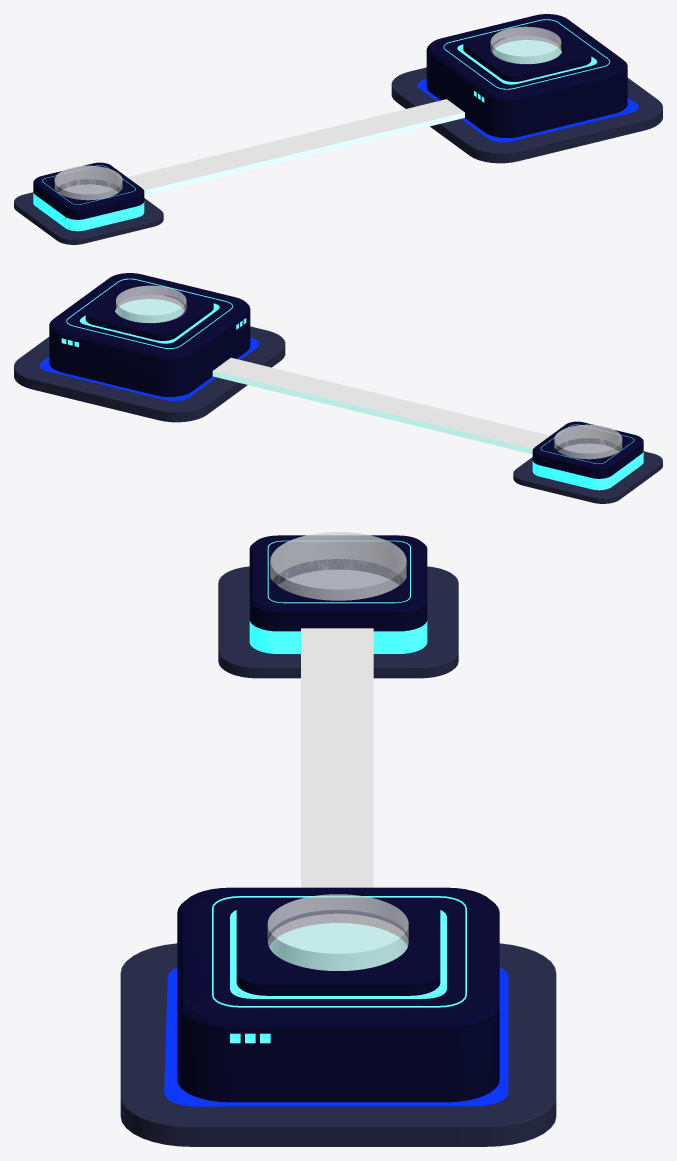
3 views of the same model, one above another, from view 1: azimuth 30°, elevation 25°; view 2: azimuth 150°, elevation 25°; view 3: azimuth 270°, elevation 25° (orthographic). The views are drawn at different scales.
Visible parts, largest first — view 1: Lit_up_face, Cube.001, Cube, Cube.010, Cube.002, Cube.008, Cylinder.005, Cylinder.003, Cube.012, Cube.007, Cube.009, Cube.011 (+1 smaller); view 2: Lit_up_face, Cube.001, Cube, Cube.010, Cube.002, Cube.008, Cylinder.005, Cylinder.003, Cube.012, Cube.007, Cube.009, Cube.011 (+1 smaller); view 3: Lit_up_face, Cube.001, Cube, Cube.010, Cube.002, Cube.008, Cylinder.005, Cylinder.003, Cube.007, Cube.011, Cube.009, Plane.
Boxes of the visible parts, left/top/right/bottom form: Lit_up_face: left=426, top=14, right=627, bottom=137; Cube.001: left=391, top=67, right=662, bottom=163; Cube: left=127, top=99, right=464, bottom=190; Cube.010: left=33, top=162, right=144, bottom=219; Cube.002: left=463, top=22, right=591, bottom=81; Cube.008: left=14, top=192, right=163, bottom=244; Cylinder.005: left=490, top=26, right=561, bottom=64; Cylinder.003: left=54, top=165, right=122, bottom=200; Cube.012: left=144, top=112, right=464, bottom=195; Cube.007: left=457, top=40, right=596, bottom=84; Cube.009: left=33, top=193, right=144, bottom=231; Cube.011: left=417, top=79, right=638, bottom=142; Lit_up_face: left=49, top=273, right=250, bottom=396; Cube.001: left=14, top=326, right=285, bottom=422; Cube: left=213, top=357, right=549, bottom=448; Cube.010: left=532, top=421, right=643, bottom=478; Cube.002: left=85, top=281, right=213, bottom=340; Cube.008: left=513, top=451, right=662, bottom=503; Cylinder.005: left=116, top=285, right=186, bottom=323; Cylinder.003: left=554, top=424, right=622, bottom=459; Cube.012: left=212, top=371, right=532, bottom=454; Cube.007: left=80, top=299, right=219, bottom=343; Cube.009: left=532, top=452, right=643, bottom=490; Cube.011: left=39, top=337, right=259, bottom=401; Lit_up_face: left=177, top=887, right=499, bottom=1102; Cube.001: left=120, top=943, right=556, bottom=1146; Cube: left=301, top=628, right=373, bottom=887; Cube.010: left=249, top=535, right=427, bottom=631; Cube.002: left=236, top=898, right=440, bottom=995; Cube.008: left=218, top=566, right=458, bottom=678; Cylinder.005: left=267, top=894, right=408, bottom=970; Cylinder.003: left=270, top=532, right=406, bottom=600; Cube.007: left=230, top=910, right=446, bottom=998; Cube.011: left=164, top=967, right=508, bottom=1106; Cube.009: left=249, top=620, right=427, bottom=653; Plane: left=212, top=896, right=466, bottom=1007.
Bounding box in the file's own units: 19.34 × 2.06 × 6.24.
